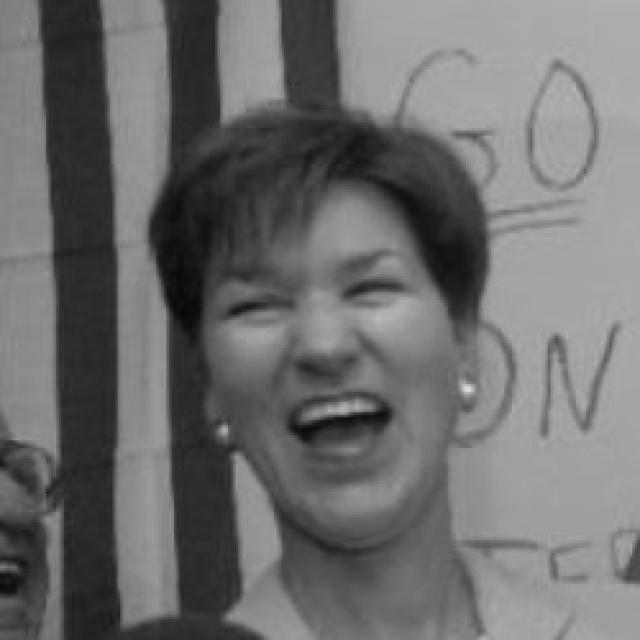real: (191, 181, 471, 555), (214, 263, 424, 335)
